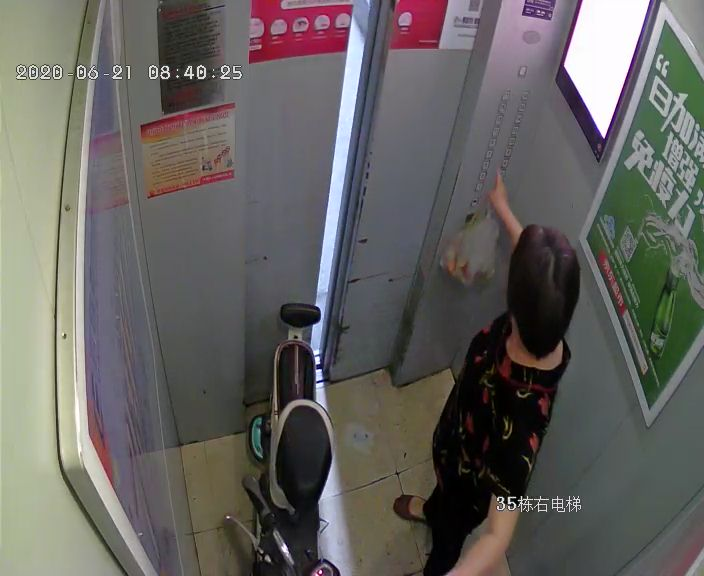Electric-bicycle: (218, 298, 345, 576)
